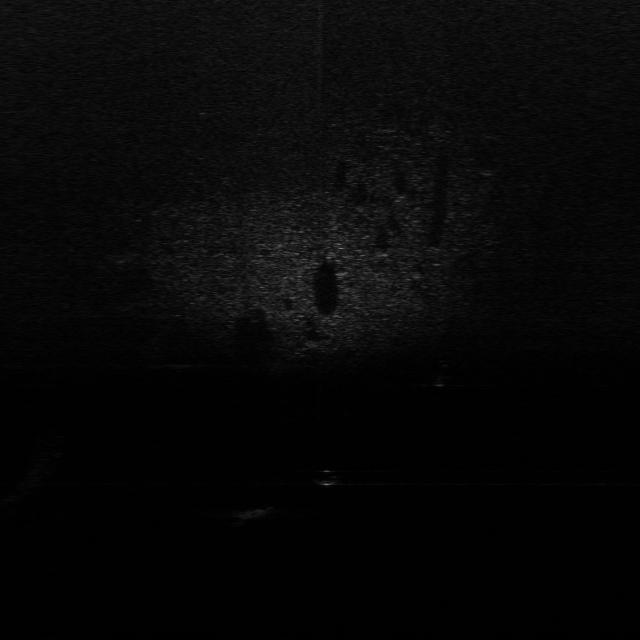ball: (312, 468, 338, 489)
square cage: (230, 501, 280, 522)
tyre: (428, 356, 456, 388)
